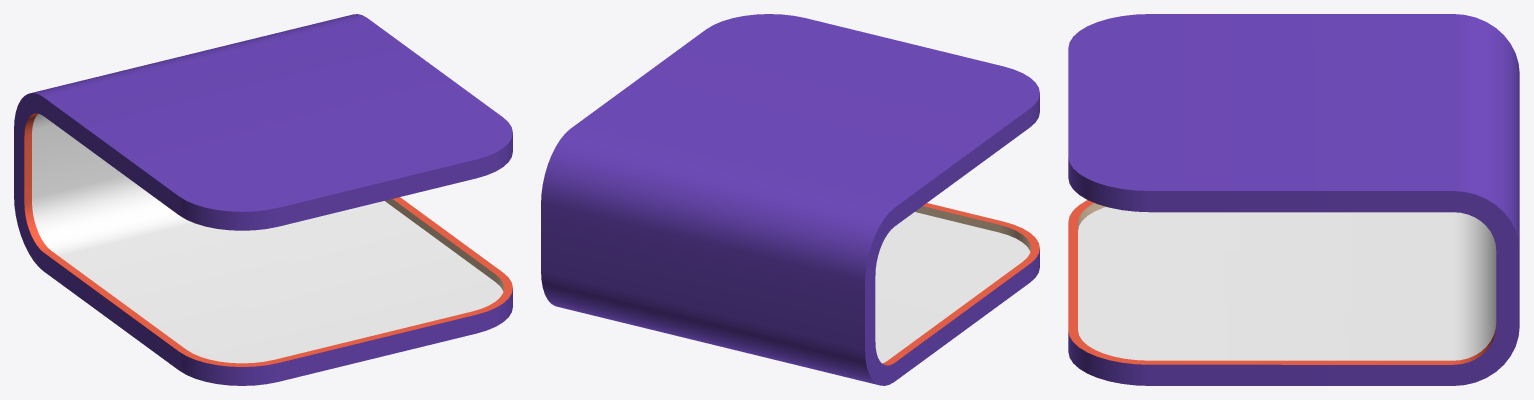
Rendered from TestObject.glb.
3 views of the same model, side by side, from view 1: azimuth 30°, elevation 25°; view 2: azimuth 150°, elevation 25°; view 3: azimuth 270°, elevation 25° (orthographic). The views are drawn at different scales.
Visible parts, largest first — view 1: House; view 2: House; view 3: House.
Part boxes in pixels (x1,y1,x2,y2): House: (14, 14, 512, 385); House: (541, 14, 1039, 385); House: (1068, 14, 1519, 385).
Size of what is drawn, in the model's own units: 6.32 by 3.24 by 6.81.
